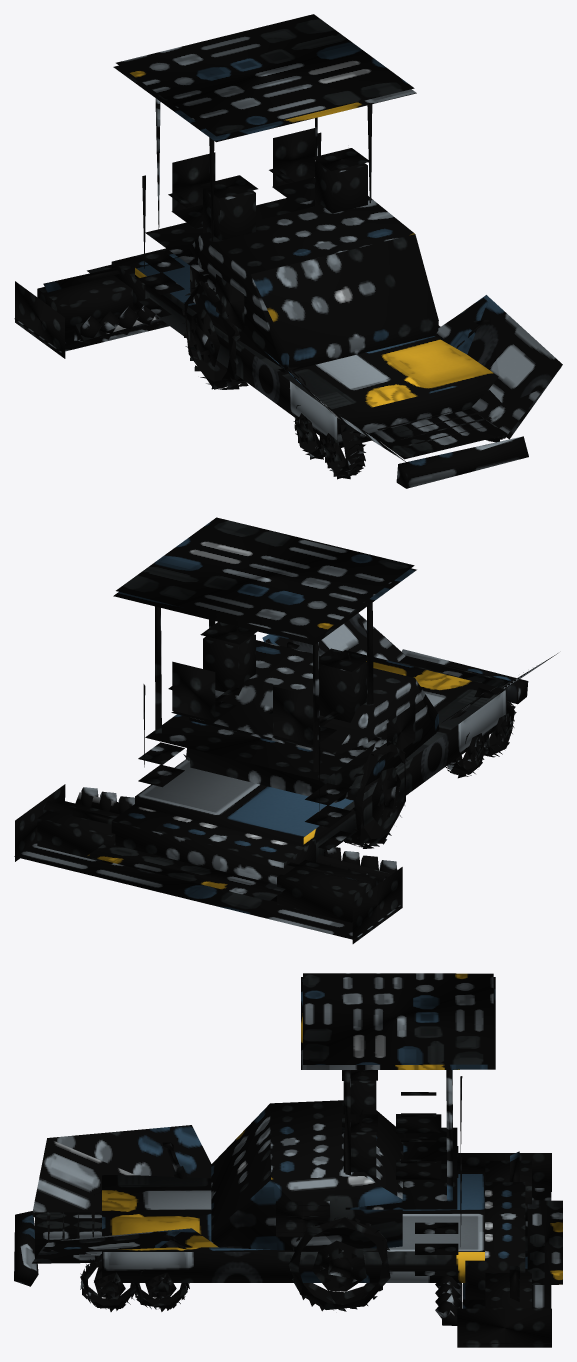
File: asphalt_paver.lod2.obj
3 views of the same model, one above another, from view 1: azimuth 30°, elevation 25°; view 2: azimuth 150°, elevation 25°; view 3: azimuth 270°, elevation 25° (orthographic). The views are drawn at different scales.
Visible parts, largest first — view 1: asphalt_paver; view 2: asphalt_paver; view 3: asphalt_paver.
Boxes of the visible parts, box(x1,y1,x2,y2) form: asphalt_paver: box(14, 14, 562, 488); asphalt_paver: box(14, 517, 557, 943); asphalt_paver: box(14, 973, 562, 1347).
Size of the model in its own units: 4.74 by 3.61 by 7.01.
Materials: 1 (1 with a texture image).
